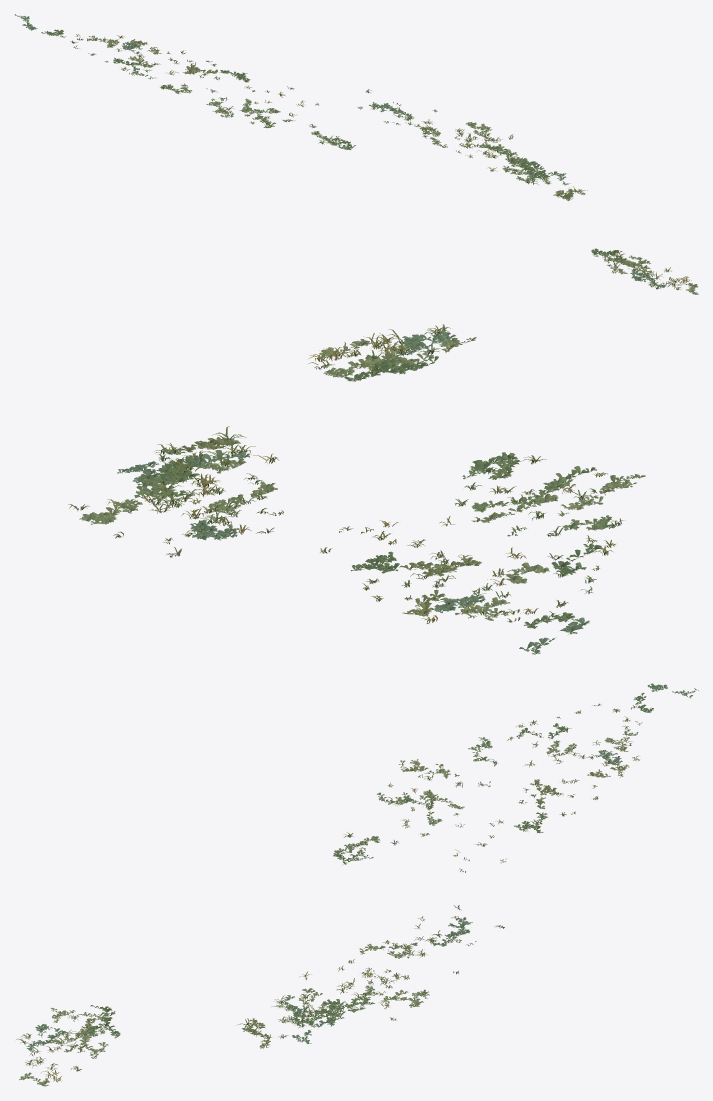
Rendered from woodland-edge.glb.
3 renders of one model, top to bottom at view 1: azimuth 30°, elevation 25°; view 2: azimuth 150°, elevation 25°; view 3: azimuth 270°, elevation 25°, orthographic. The views are drawn at different scales.
Parts seen in each view (by area): view 1: Two spruce margin; view 2: Two spruce margin; view 3: Two spruce margin.
Boxes of the visible parts, x1,y1,x2,y2 form: Two spruce margin: (15,14,698,294); Two spruce margin: (68,324,645,654); Two spruce margin: (16,683,698,1086).
Size of the model in its own units: 14.67 by 5.59 by 19.03.
